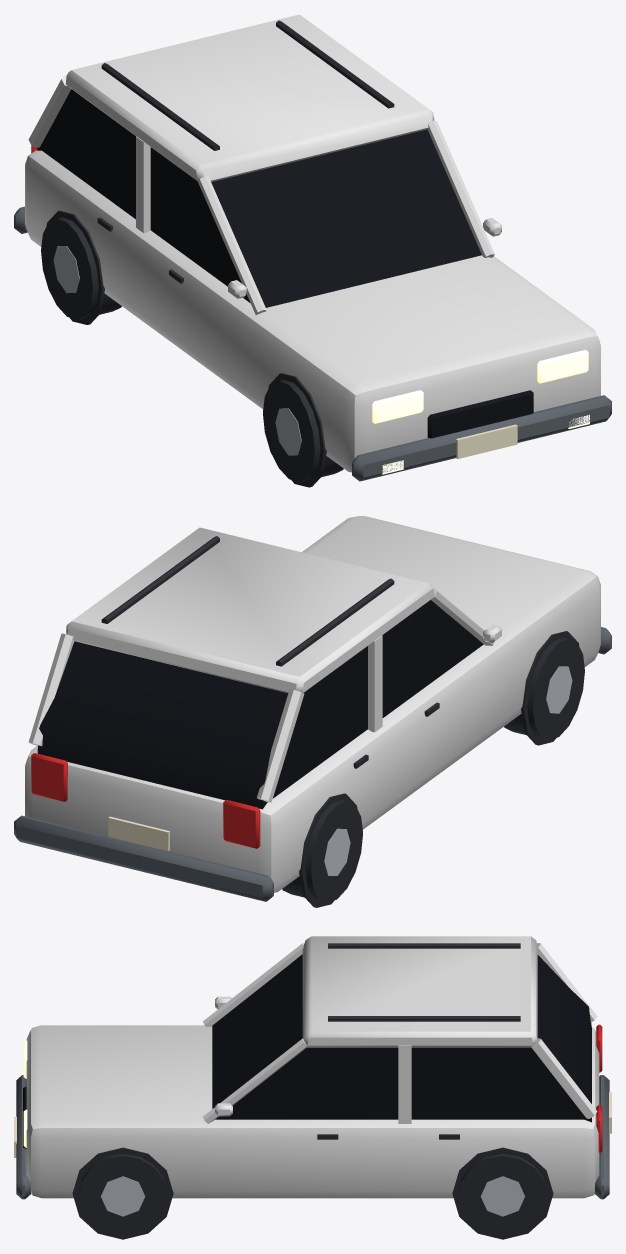
The model's file is car.glb.
The picture shows the model from 3 angles, top to bottom: view 1: azimuth 30°, elevation 25°; view 2: azimuth 150°, elevation 25°; view 3: azimuth 270°, elevation 25°; orthographic projection. The views are drawn at different scales.
Visible parts, largest first — view 1: body; view 2: body; view 3: body.
Part boxes in pixels (x1,y1,x2,y2): body: (14,14,611,487); body: (14,516,611,907); body: (14,936,611,1239).
Bounding box in the file's own units: 181 × 153 × 403.
